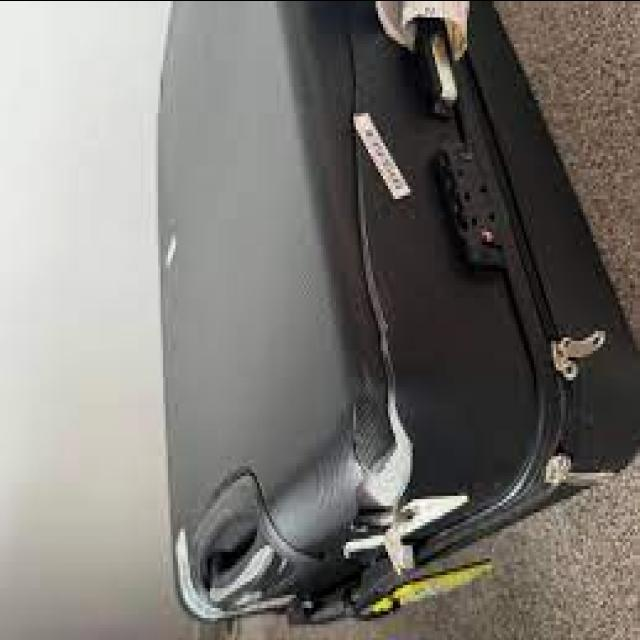Damage-bag: (330, 33, 413, 527)
